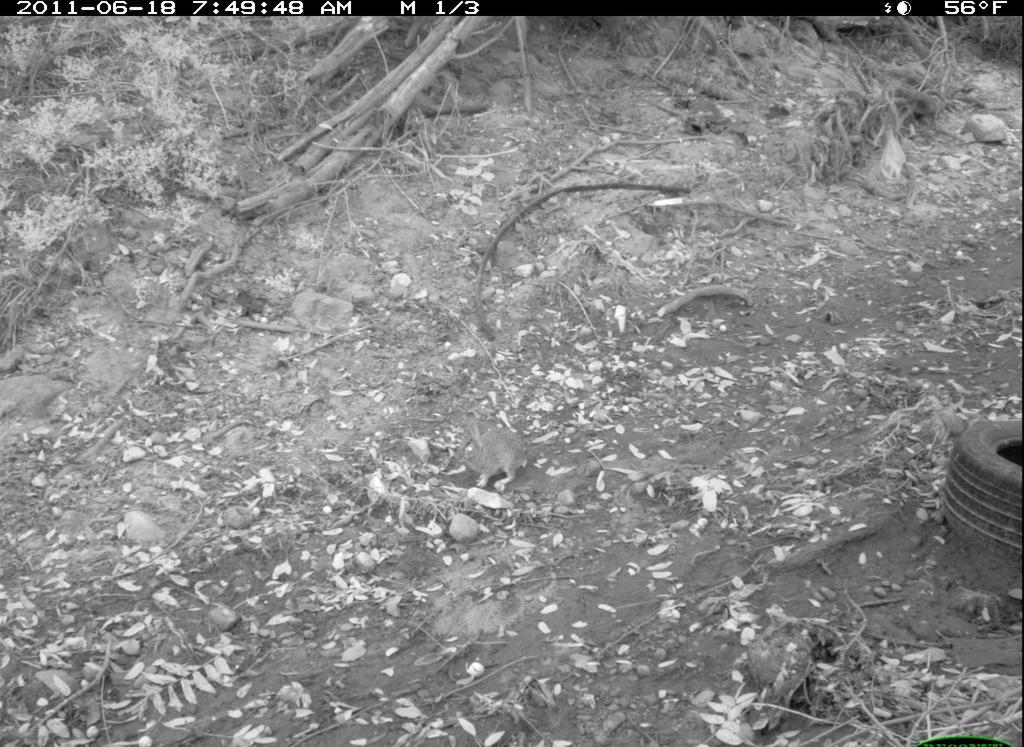rabbit: (446, 418, 541, 499)
